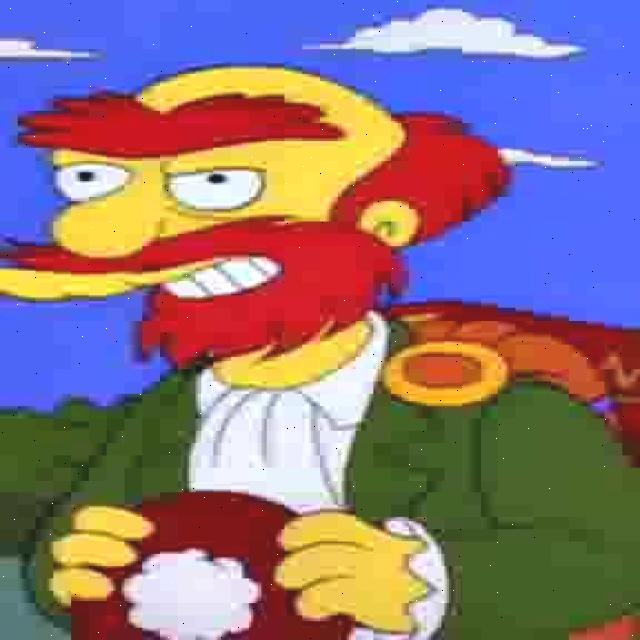Groundskeeper Willie: (0, 61, 520, 379)
